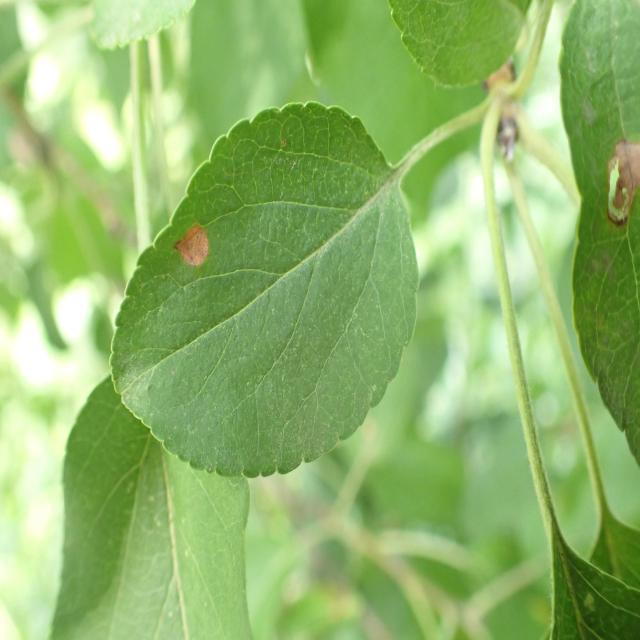frog-eye-leaf-spot: (109, 102, 421, 482), (559, 2, 640, 468)
